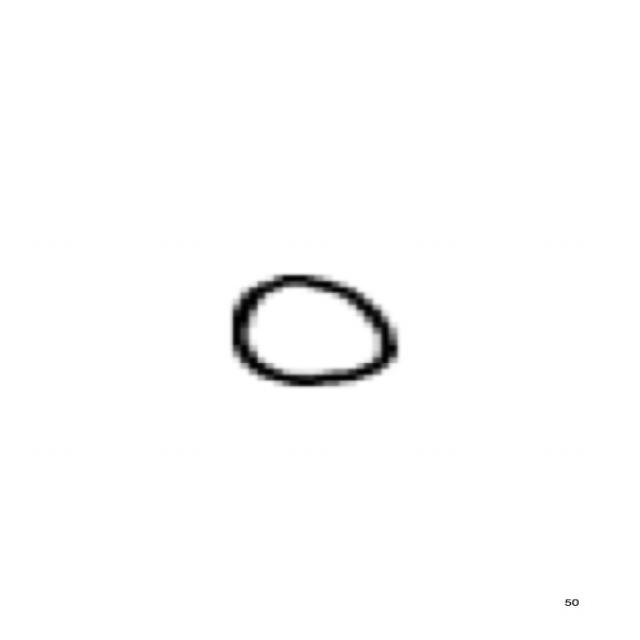5 -five-: (215, 262, 406, 395)
